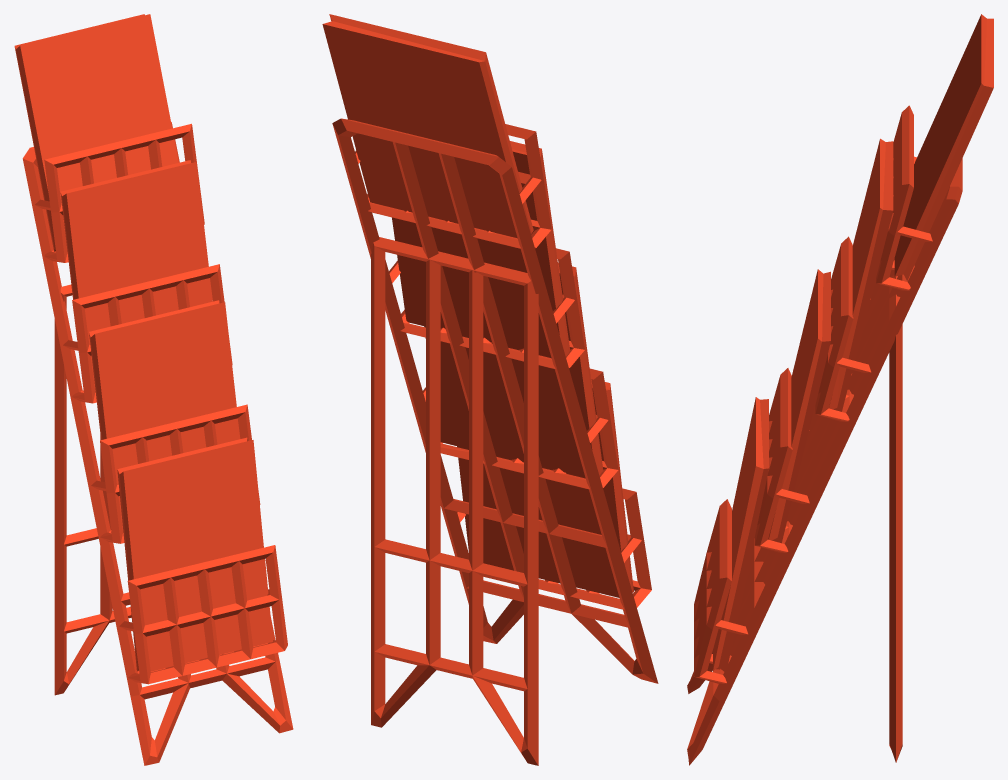
File: SM_Newspaper_Stand_Tall_B_City.fbx
3 renders of one model, left to right at view 1: azimuth 30°, elevation 25°; view 2: azimuth 150°, elevation 25°; view 3: azimuth 270°, elevation 25°, orthographic. The views are drawn at different scales.
Visible parts, largest first — view 1: SM_Newspaper_Stand_Tall_B_City; view 2: SM_Newspaper_Stand_Tall_B_City; view 3: SM_Newspaper_Stand_Tall_B_City.
Part boxes in pixels (bbox=[...]): SM_Newspaper_Stand_Tall_B_City: bbox=[14, 14, 293, 765]; SM_Newspaper_Stand_Tall_B_City: bbox=[322, 14, 658, 765]; SM_Newspaper_Stand_Tall_B_City: bbox=[687, 14, 993, 765].
Bounding box in the file's own units: 0.3145 × 1.25 × 0.5127.
